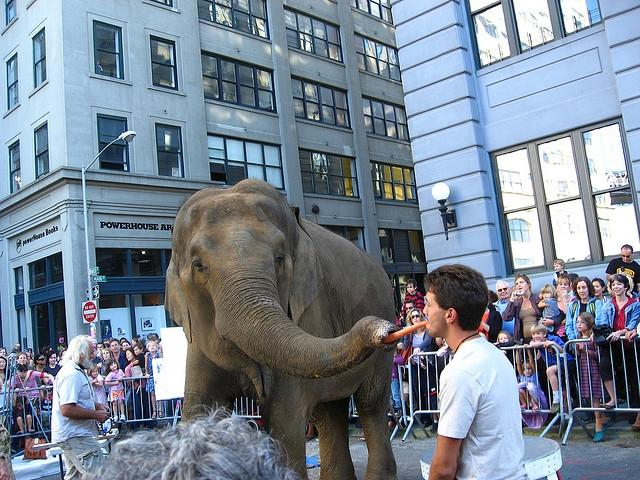carrot: (382, 320, 430, 344)
